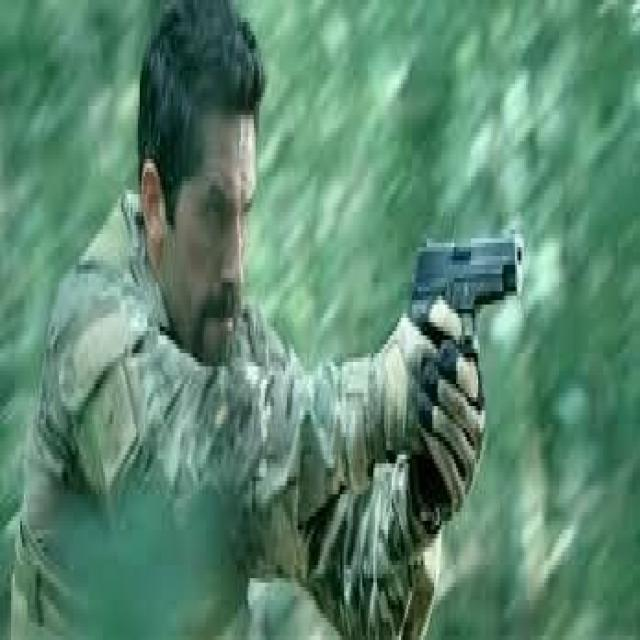gun: (398, 229, 526, 489)
